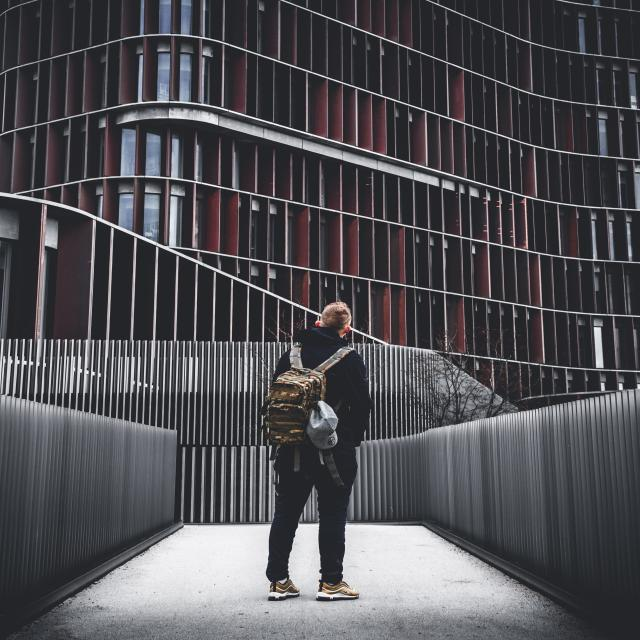standing: (255, 297, 376, 603)
